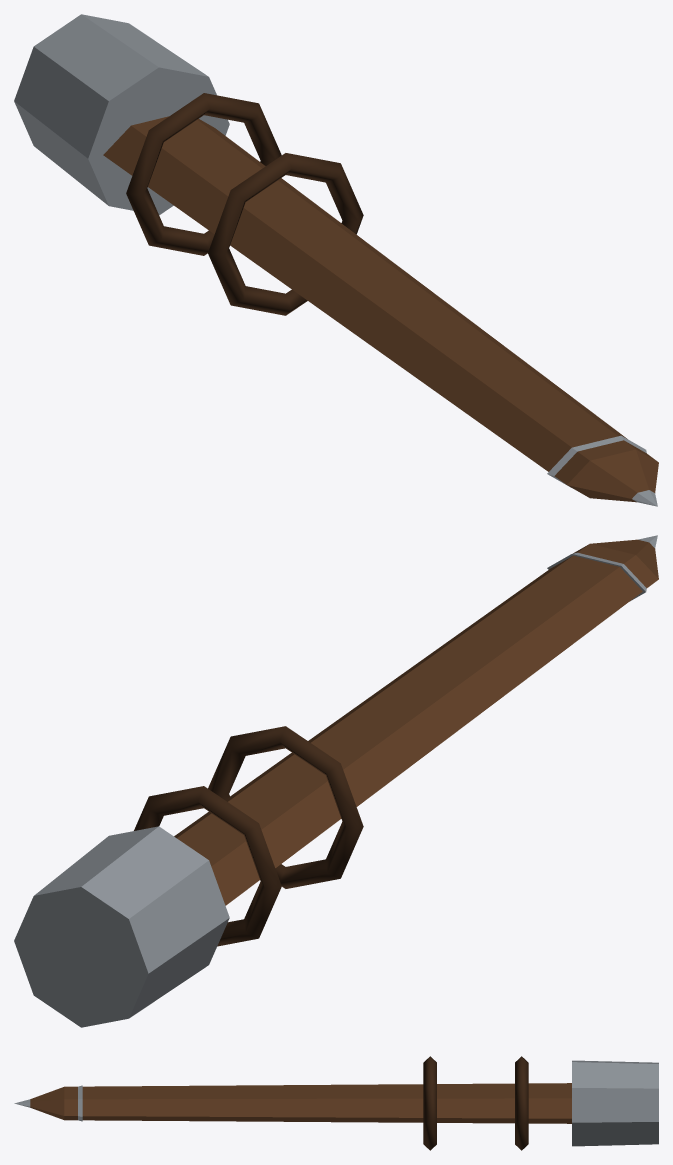
The model's file is Scabbard_Iron.fbx.
3 views of the same model, one above another, from view 1: azimuth 30°, elevation 25°; view 2: azimuth 150°, elevation 25°; view 3: azimuth 270°, elevation 25° (orthographic). The views are drawn at different scales.
Parts seen in each view (by area): view 1: Scabbard_Iron; view 2: Scabbard_Iron; view 3: Scabbard_Iron.
Part boxes in pixels (x1,y1,x2,y2): Scabbard_Iron: (14,14,658,506); Scabbard_Iron: (14,535,658,1027); Scabbard_Iron: (14,1056,658,1150).
Bounding box in the file's own units: 4.4 × 4.4 × 28.2.
